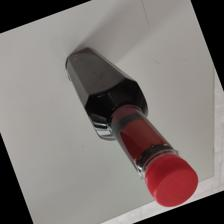Namngu: (65, 47, 199, 208)
